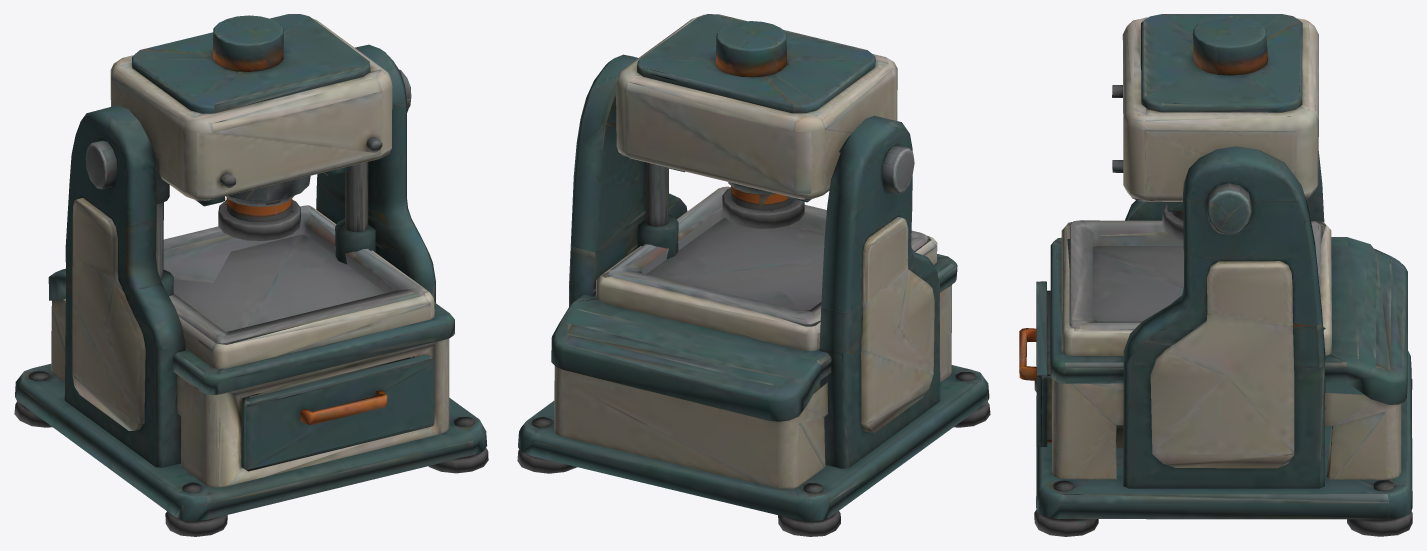
File: fabricator-lod0.76fc0bf252f9.glb
3 views of the same model, side by side, from view 1: azimuth 30°, elevation 25°; view 2: azimuth 150°, elevation 25°; view 3: azimuth 270°, elevation 25° (orthographic). The views are drawn at different scales.
Parts seen in each view (by area): view 1: geometry_0; view 2: geometry_0; view 3: geometry_0.
Part boxes in pixels (x1=…): geometry_0: x1=14, y1=14, x2=488, y2=536; geometry_0: x1=517, y1=14, x2=990, y2=536; geometry_0: x1=1019, y1=14, x2=1412, y2=536.
Bounding box in the file's own units: 0.8111 × 1 × 0.8389.
Materials: 1 (1 with a texture image).
